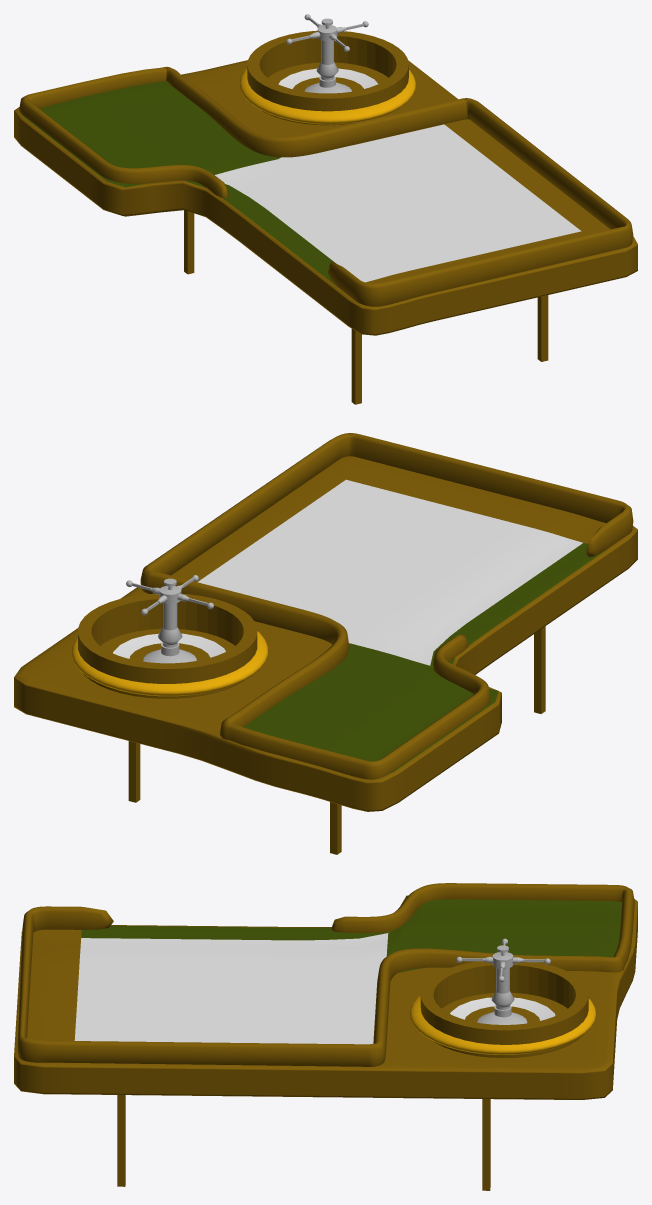
File: RouletteTable_2.fbx
3 renders of one model, top to bottom at view 1: azimuth 30°, elevation 25°; view 2: azimuth 150°, elevation 25°; view 3: azimuth 270°, elevation 25°, orthographic. The views are drawn at different scales.
Parts seen in each view (by area): view 1: Table, Frame, RouletteCircle, RouletteCircleFrame, RouletteCircleInside, MatelPieceOfRouletteCircle_15, TableLeg_4, TableLeg, MatelPieceOfRouletteCircle, TableLeg_3; view 2: Table, Frame, RouletteCircle, RouletteCircleFrame, RouletteCircleInside, MatelPieceOfRouletteCircle_15, TableLeg_4, MatelPieceOfRouletteCircle, TableLeg_2, TableLeg_3; view 3: Table, Frame, RouletteCircle, RouletteCircleFrame, RouletteCircleInside, MatelPieceOfRouletteCircle_15, TableLeg, TableLeg_2, MatelPieceOfRouletteCircle, MatelPieceOfRouletteCircle_2.
Boxes of the visible parts, <box> form: Table: <box>14,60,637,335</box>; Frame: <box>19,66,633,306</box>; RouletteCircle: <box>247,30,408,125</box>; RouletteCircleFrame: <box>239,68,415,124</box>; RouletteCircleInside: <box>278,68,377,88</box>; MatelPieceOfRouletteCircle_15: <box>286,14,368,51</box>; TableLeg_4: <box>351,329,361,404</box>; TableLeg: <box>537,295,548,361</box>; MatelPieceOfRouletteCircle: <box>316,40,338,87</box>; TableLeg_3: <box>184,210,194,274</box>; Table: <box>14,456,637,811</box>; Frame: <box>140,433,633,779</box>; RouletteCircle: <box>78,593,257,698</box>; RouletteCircleFrame: <box>72,631,267,696</box>; RouletteCircleInside: <box>113,633,225,658</box>; MatelPieceOfRouletteCircle_15: <box>126,575,213,615</box>; TableLeg_4: <box>534,626,545,713</box>; MatelPieceOfRouletteCircle: <box>158,603,182,656</box>; TableLeg_2: <box>128,741,140,802</box>; TableLeg_3: <box>330,802,341,854</box>; Table: <box>14,895,637,1099</box>; Frame: <box>17,883,634,1066</box>; RouletteCircle: <box>420,961,588,1058</box>; RouletteCircleFrame: <box>410,995,595,1054</box>; RouletteCircleInside: <box>450,997,555,1020</box>; MatelPieceOfRouletteCircle_15: <box>456,938,550,982</box>; TableLeg: <box>117,1095,125,1186</box>; TableLeg_2: <box>482,1099,490,1190</box>; MatelPieceOfRouletteCircle: <box>491,968,514,1017</box>; MatelPieceOfRouletteCircle_2: <box>477,1012,527,1024</box>.
Bounding box in the file's own units: 1367 × 781 × 1998.
